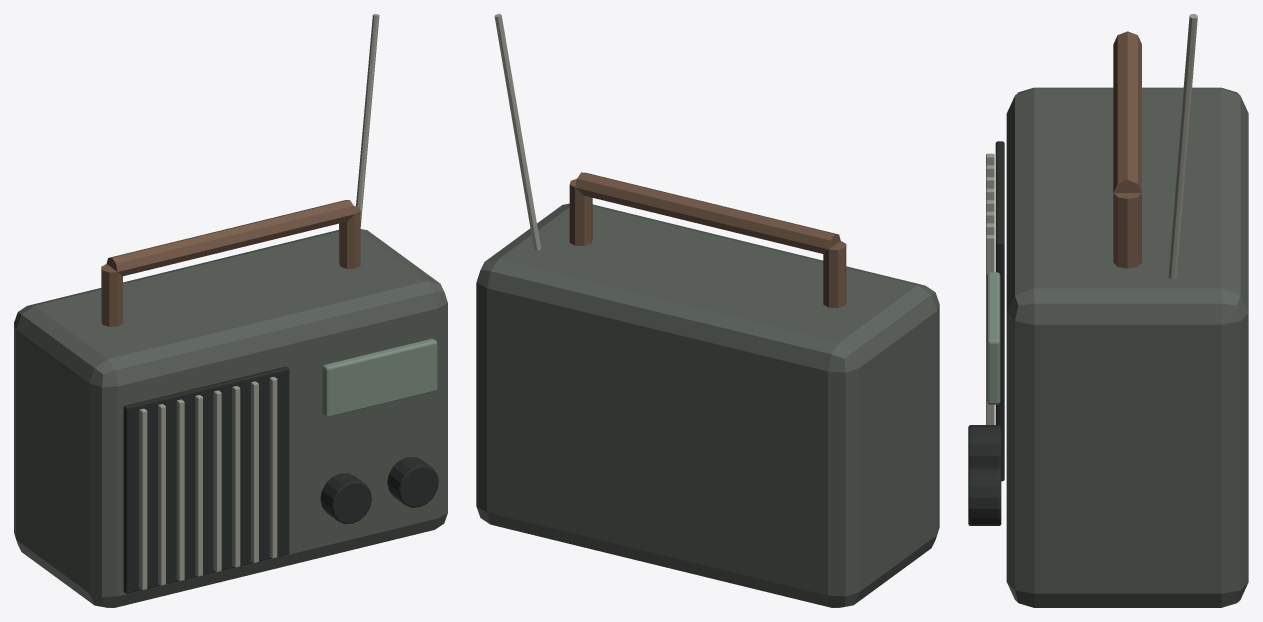
Rendered from radio.glb.
3 views of the same model, side by side, from view 1: azimuth 30°, elevation 25°; view 2: azimuth 150°, elevation 25°; view 3: azimuth 270°, elevation 25° (orthographic). The views are drawn at different scales.
Parts seen in each view (by area): view 1: radio; view 2: radio; view 3: radio.
Boxes of the visible parts, <box> form: radio: <box>14,14,447,607</box>; radio: <box>476,14,939,607</box>; radio: <box>968,14,1248,607</box>.
Size of the model in its own units: 0.48 by 0.6006 by 0.255.
